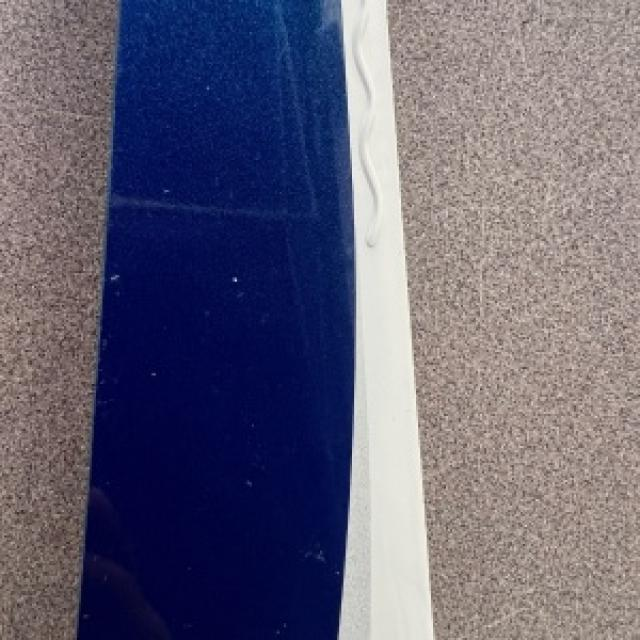healthy: (75, 0, 429, 638)
